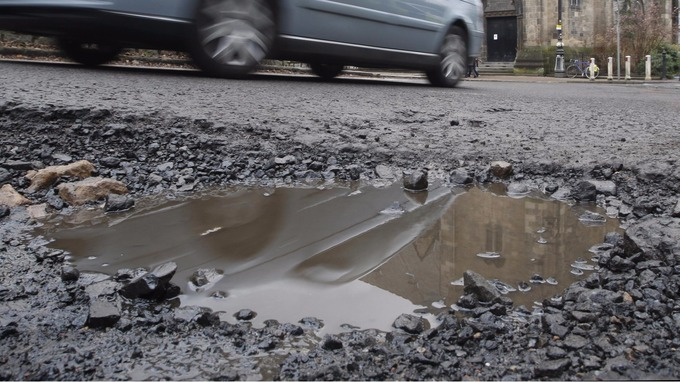pothole: (40, 131, 654, 335)
